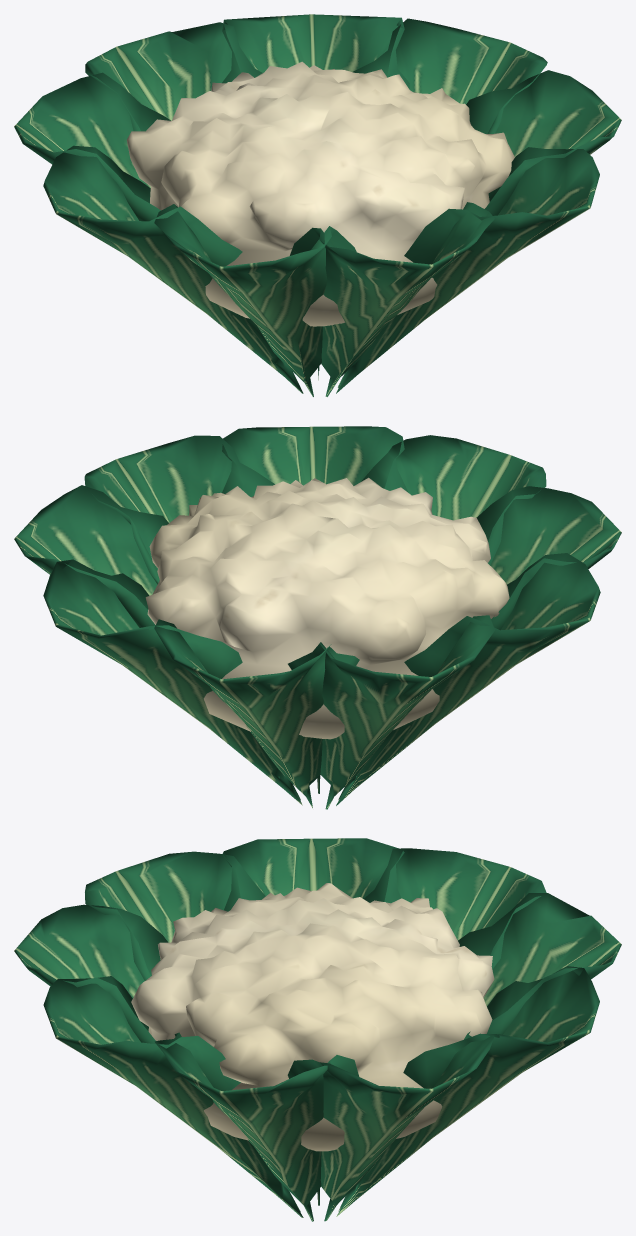
Rendered from NP_Cauliflower_Ready_LOD1.fbx.
The picture shows the model from 3 angles, top to bottom: view 1: azimuth 30°, elevation 25°; view 2: azimuth 150°, elevation 25°; view 3: azimuth 270°, elevation 25°; orthographic projection.
Parts seen in each view (by area): view 1: NP_Cauliflower_Ready; view 2: NP_Cauliflower_Ready; view 3: NP_Cauliflower_Ready.
Part boxes in pixels (bbox=[...]): NP_Cauliflower_Ready: bbox=[14, 14, 621, 396]; NP_Cauliflower_Ready: bbox=[14, 426, 621, 809]; NP_Cauliflower_Ready: bbox=[14, 838, 621, 1221].
Bounding box in the file's own units: 79.69 × 42.6 × 80.55.
